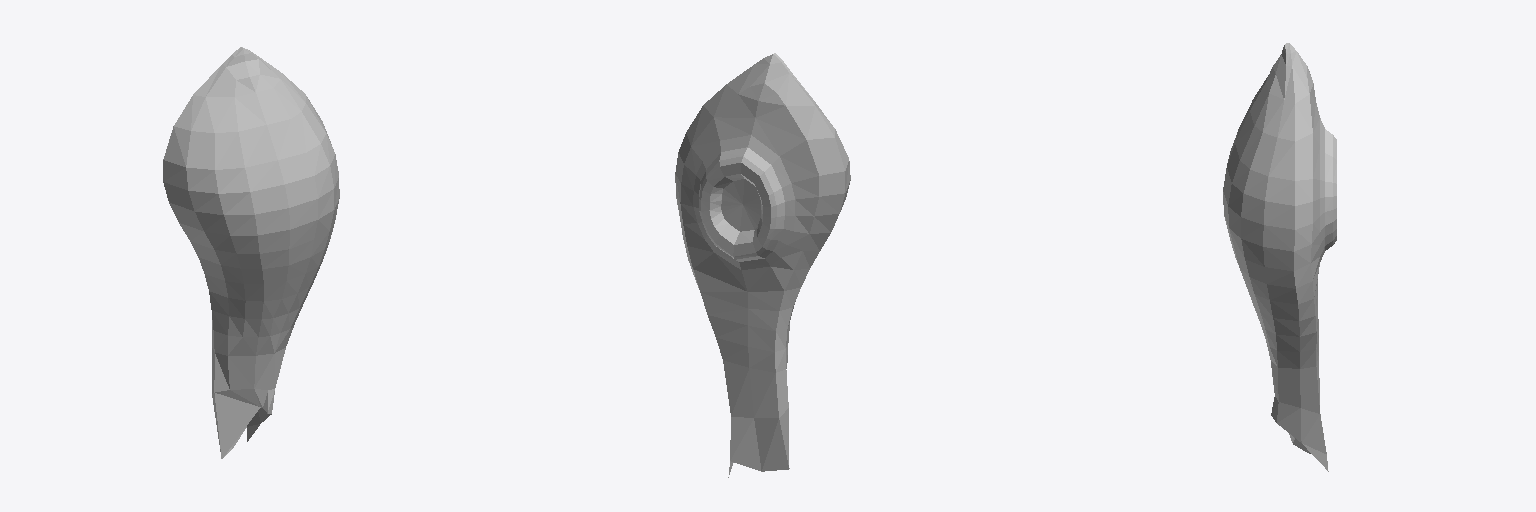
File: IzqSquid.obj
3 renders of one model, left to right at view 1: azimuth 30°, elevation 25°; view 2: azimuth 150°, elevation 25°; view 3: azimuth 270°, elevation 25°, orthographic.
Visible parts, largest first — view 1: Squid__M_Body.003, Squid__M_Body.004; view 2: Squid__M_Body.004, Squid__M_Body.003; view 3: Squid__M_Body.003, Squid__M_Body.004.
Part boxes in pixels (x1,y1,x2,y2): Squid__M_Body.003: (163, 47, 339, 458); Squid__M_Body.004: (212, 320, 262, 456); Squid__M_Body.004: (675, 54, 844, 477); Squid__M_Body.003: (774, 53, 850, 368); Squid__M_Body.003: (1223, 43, 1301, 442); Squid__M_Body.004: (1290, 44, 1336, 471).
Size of the model in its own units: 0.3727 by 0.8712 by 0.2163.